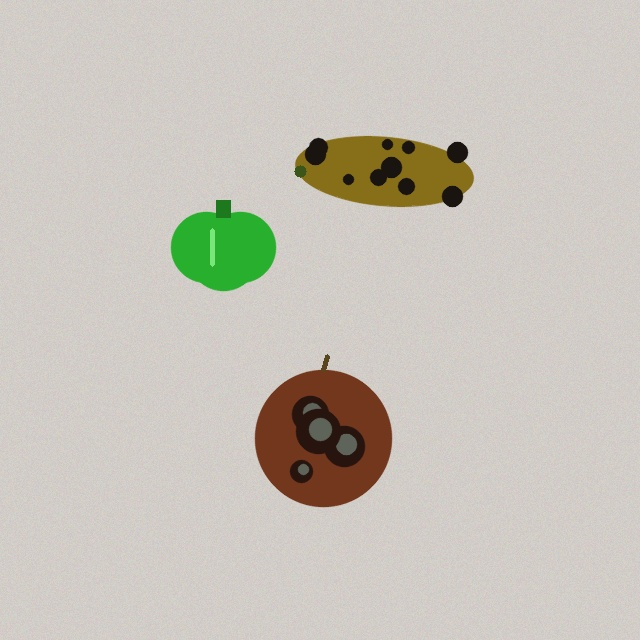Fresh bell pepper: (171, 200, 275, 290)
Rotten apple: (255, 356, 391, 506)
Rotten banana: (291, 129, 477, 213)
